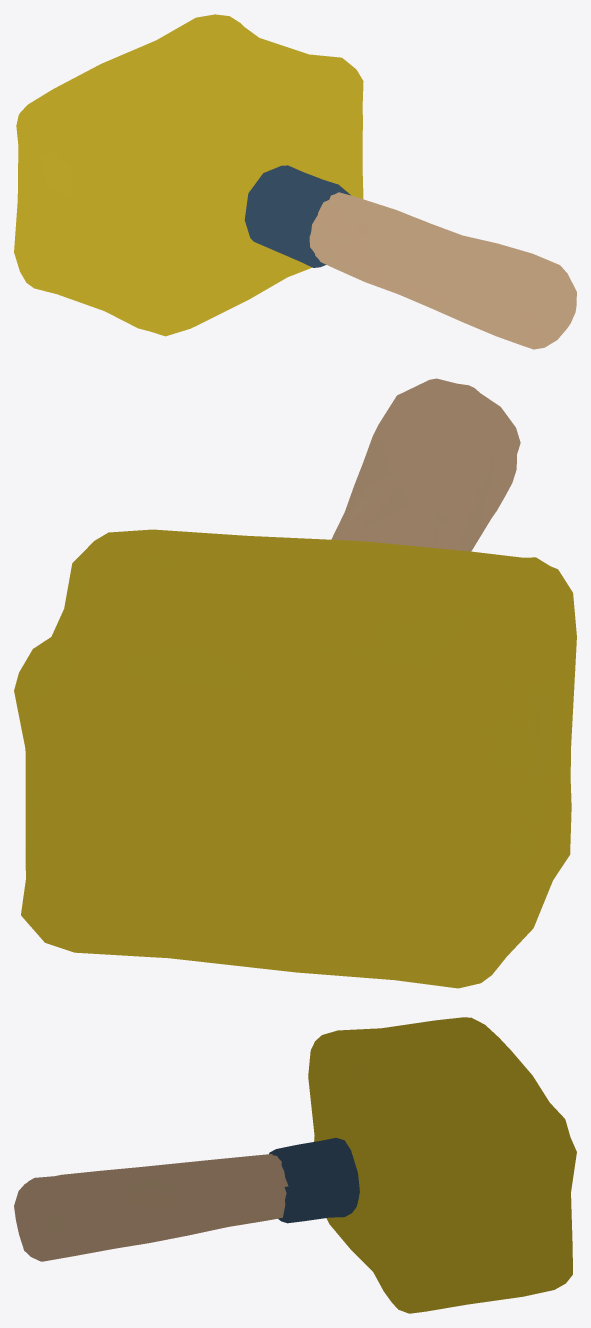
Rendered from ToyObject_115.fbx.
3 views of the same model, one above another, from view 1: azimuth 30°, elevation 25°; view 2: azimuth 150°, elevation 25°; view 3: azimuth 270°, elevation 25° (orthographic). The views are drawn at different scales.
Visible parts, largest first — view 1: object-1.003; view 2: object-1.003; view 3: object-1.003.
Part boxes in pixels (<box>): object-1.003: <box>14,14,576,349</box>; object-1.003: <box>14,378,576,988</box>; object-1.003: <box>14,1017,576,1313</box>.
Bounding box in the file's own units: 0.0952 × 0.058 × 0.1592.
